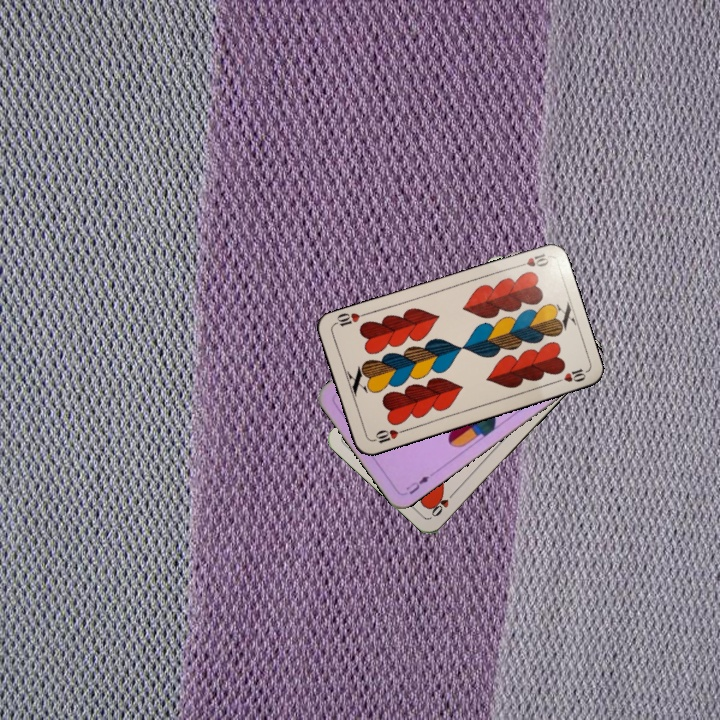EU: (402, 471, 432, 497)
H10: (511, 249, 551, 271), (369, 425, 408, 446)
HO: (427, 487, 459, 520)
